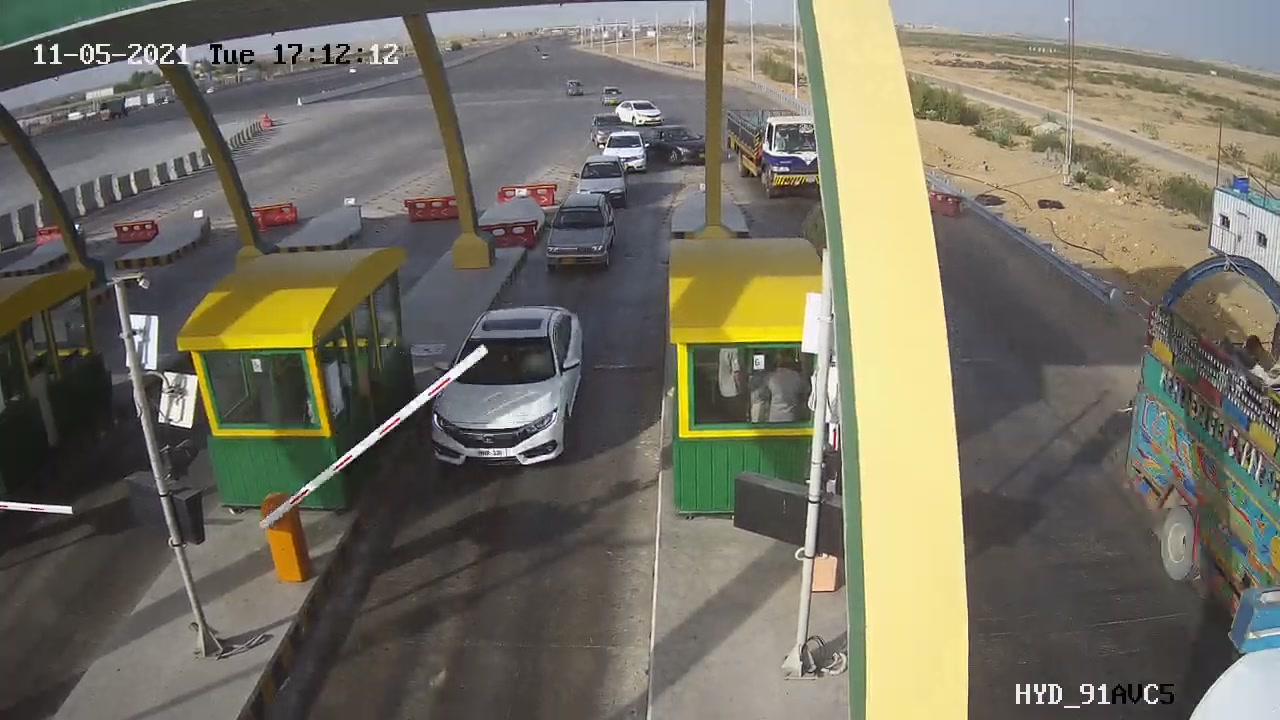F1: (416, 290, 598, 492), (525, 185, 630, 282)
